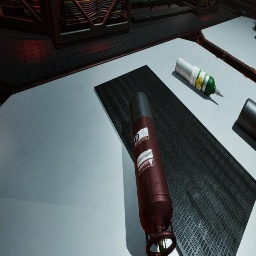0: (175, 56, 224, 97)
NitrogenTank ,: (129, 92, 177, 256), (236, 98, 256, 142)
